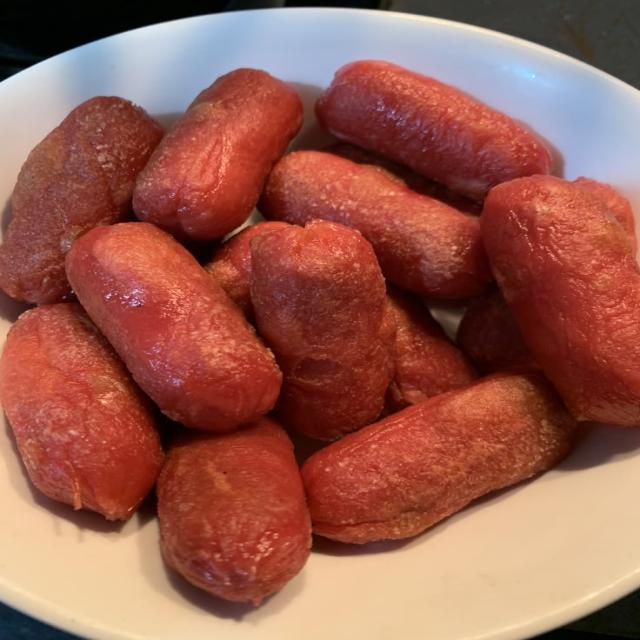sausage: (301, 372, 575, 543), (67, 222, 281, 430), (481, 176, 639, 426), (0, 303, 163, 519), (259, 151, 491, 298), (0, 96, 163, 304), (316, 60, 552, 200), (251, 220, 394, 440), (134, 68, 302, 241), (157, 418, 311, 604), (385, 284, 478, 413), (322, 143, 481, 215), (204, 221, 288, 318), (456, 287, 535, 375), (574, 177, 637, 252)
